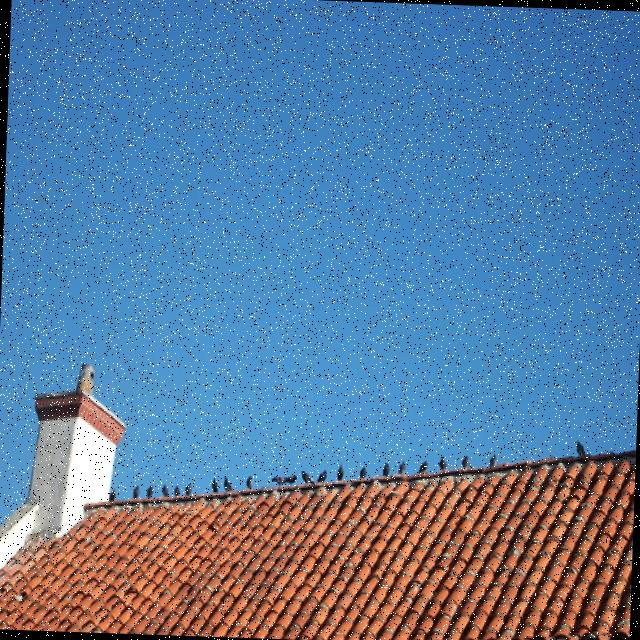bird: (271, 473, 297, 489), (222, 475, 234, 492), (300, 470, 314, 484), (437, 455, 448, 472), (316, 468, 328, 482), (336, 462, 344, 482), (460, 454, 470, 470), (396, 460, 406, 476), (381, 462, 391, 477), (245, 474, 254, 490), (418, 460, 428, 474), (358, 466, 367, 478)
